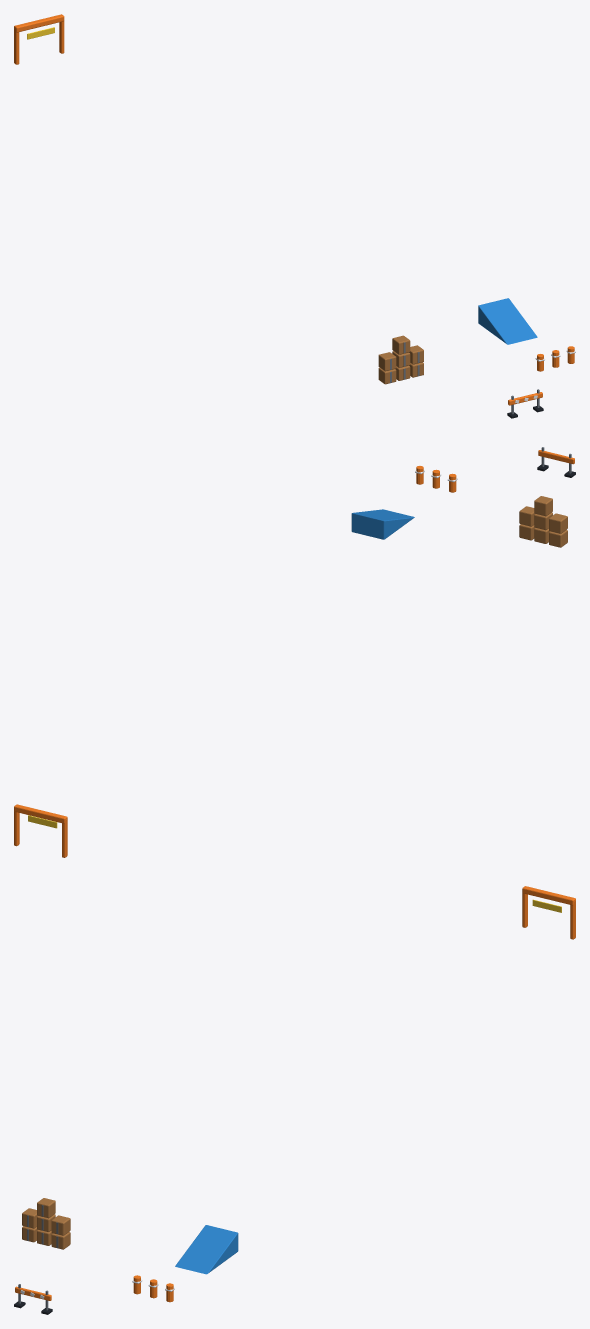
The model's file is 03_OBSTACLES.fbx.
3 renders of one model, top to bottom at view 1: azimuth 30°, elevation 25°; view 2: azimuth 150°, elevation 25°; view 3: azimuth 330°, elevation 25°, orthographic. The views are drawn at different scales.
Parts seen in each view (by area): view 1: Obstacle_JumpRamp; view 2: Obstacle_JumpRamp; view 3: Obstacle_JumpRamp.
Part boxes in pixels (x1,y1,x2,y2): Obstacle_JumpRamp: (478,298,537,344); Obstacle_JumpRamp: (351,509,414,539); Obstacle_JumpRamp: (175,1225,238,1274).
Size of the model in its own units: 16.19 by 3.64 by 82.65.
